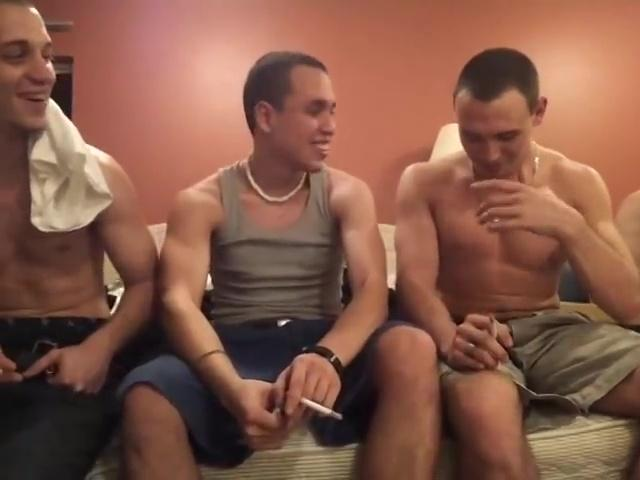cigarette: (294, 397, 346, 424), (488, 310, 499, 340)
